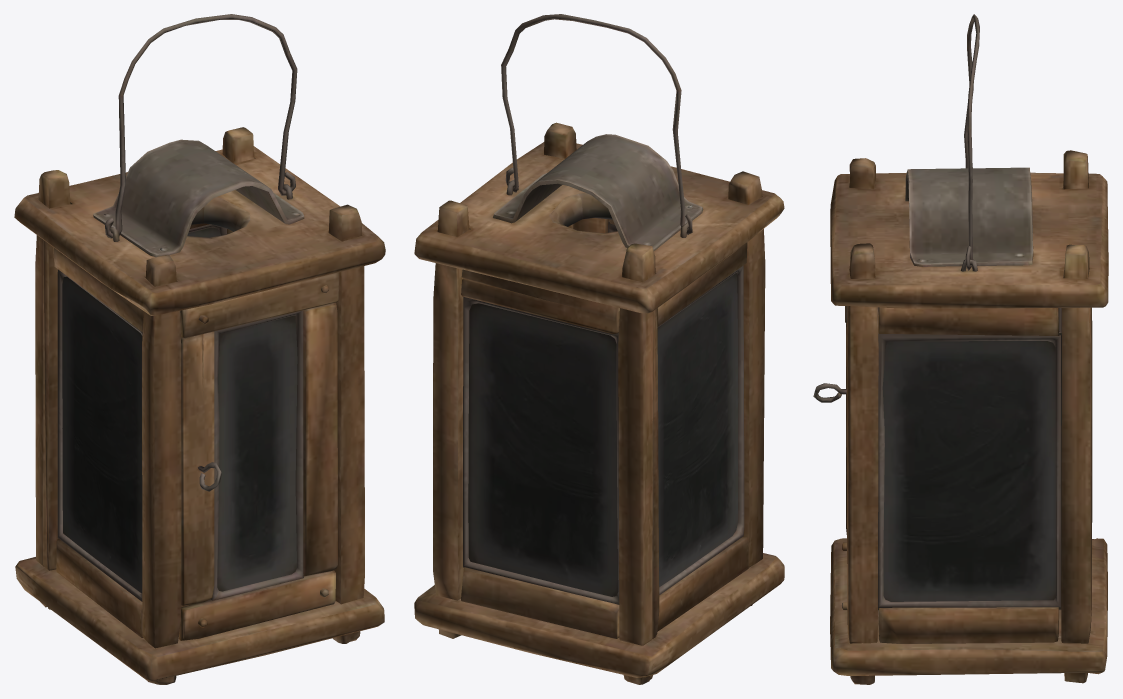
The model's file is wooden_lantern_01.glb.
The picture shows the model from 3 angles, left to right: view 1: azimuth 30°, elevation 25°; view 2: azimuth 150°, elevation 25°; view 3: azimuth 270°, elevation 25°; orthographic projection.
Parts seen in each view (by area): view 1: wooden_lantern_01, wooden_lantern_01_door, wooden_lantern_01_handle; view 2: wooden_lantern_01, wooden_lantern_01_handle; view 3: wooden_lantern_01, wooden_lantern_01_handle, wooden_lantern_01_door.
Boxes of the visible parts, <box> form: wooden_lantern_01: <box>14,127,385,684</box>; wooden_lantern_01_door: <box>178,272,339,640</box>; wooden_lantern_01_handle: <box>104,14,297,238</box>; wooden_lantern_01: <box>414,122,784,684</box>; wooden_lantern_01_handle: <box>501,14,692,234</box>; wooden_lantern_01: <box>830,150,1108,684</box>; wooden_lantern_01_handle: <box>964,14,979,270</box>; wooden_lantern_01_door: <box>813,306,847,624</box>.
Bounding box in the file's own units: 0.221 × 0.5296 × 0.2341.
2 materials, 2 textured.
